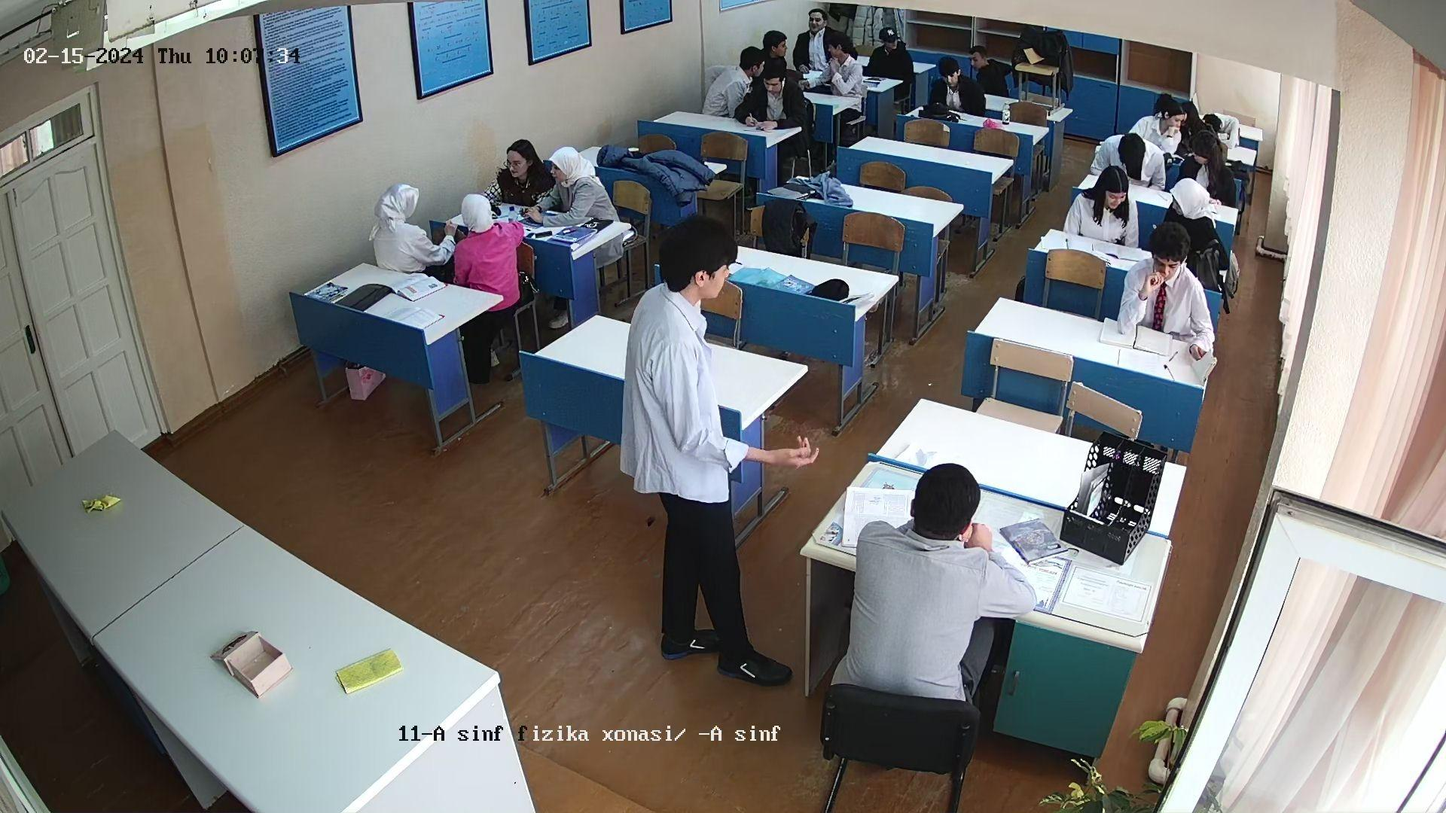Bend Over The Desk: (863, 467, 1060, 629), (1086, 135, 1176, 187)
Hand Under Table: (1124, 205, 1146, 254)
Look Around: (440, 194, 532, 304), (1170, 181, 1219, 239), (821, 39, 866, 95), (879, 25, 917, 85), (1139, 98, 1187, 144), (966, 46, 1007, 97), (1190, 131, 1229, 170), (737, 47, 766, 81), (762, 27, 790, 60)
Normal: (1146, 231, 1214, 362), (544, 148, 604, 233), (496, 125, 535, 190), (927, 54, 963, 116), (762, 69, 801, 126)
Stand Up: (624, 220, 794, 699)
